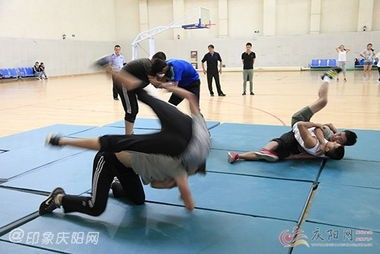falling: (49, 81, 210, 170)
